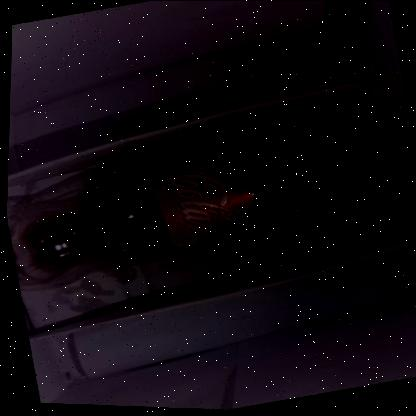Plastic Bottle: (5, 3, 415, 410), (13, 145, 364, 282)
